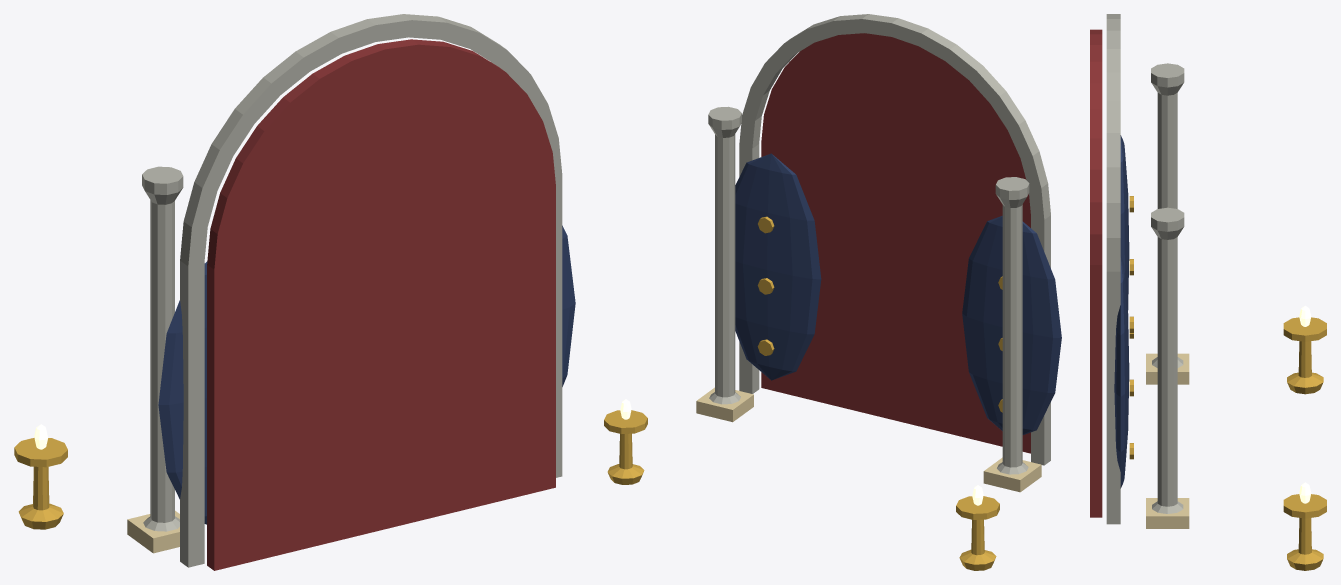
File: KOL_T1_DAKSHINESHWAR__09_Shrine_Frame.fbx
3 views of the same model, side by side, from view 1: azimuth 30°, elevation 25°; view 2: azimuth 150°, elevation 25°; view 3: azimuth 270°, elevation 25° (orthographic). The views are drawn at different scales.
Visible parts, largest first — view 1: KOL_T1_DAKSHINESHWAR__09_Shrine_Frame__KOL_T1_TempleRed, KOL_T1_DAKSHINESHWAR__09_Shrine_Frame__KOL_T1_TempleSilver, KOL_T1_DAKSHINESHWAR__09_Shrine_Frame__KOL_T1_KaliBlue, KOL_T1_DAKSHINESHWAR__09_Shrine_Frame__KOL_T1_KaliGold, KOL_T1_DAKSHINESHWAR__09_Shrine_Frame__KOL_T1_TempleCream; view 2: KOL_T1_DAKSHINESHWAR__09_Shrine_Frame__KOL_T1_TempleRed, KOL_T1_DAKSHINESHWAR__09_Shrine_Frame__KOL_T1_KaliBlue, KOL_T1_DAKSHINESHWAR__09_Shrine_Frame__KOL_T1_TempleSilver, KOL_T1_DAKSHINESHWAR__09_Shrine_Frame__KOL_T1_KaliGold, KOL_T1_DAKSHINESHWAR__09_Shrine_Frame__KOL_T1_TempleCream; view 3: KOL_T1_DAKSHINESHWAR__09_Shrine_Frame__KOL_T1_TempleSilver, KOL_T1_DAKSHINESHWAR__09_Shrine_Frame__KOL_T1_TempleRed, KOL_T1_DAKSHINESHWAR__09_Shrine_Frame__KOL_T1_KaliGold, KOL_T1_DAKSHINESHWAR__09_Shrine_Frame__KOL_T1_KaliBlue, KOL_T1_DAKSHINESHWAR__09_Shrine_Frame__KOL_T1_TempleCream, KOL_T1_DAKSHINESHWAR__09_Shrine_Frame__KOL_T1_TempleGlow.
Boxes of the visible parts, <box> form: KOL_T1_DAKSHINESHWAR__09_Shrine_Frame__KOL_T1_TempleRed: <box>207,39,555,570</box>; KOL_T1_DAKSHINESHWAR__09_Shrine_Frame__KOL_T1_TempleSilver: <box>142,14,562,567</box>; KOL_T1_DAKSHINESHWAR__09_Shrine_Frame__KOL_T1_KaliBlue: <box>158,225,575,524</box>; KOL_T1_DAKSHINESHWAR__09_Shrine_Frame__KOL_T1_KaliGold: <box>14,438,67,529</box>; KOL_T1_DAKSHINESHWAR__09_Shrine_Frame__KOL_T1_TempleCream: <box>127,510,179,553</box>; KOL_T1_DAKSHINESHWAR__09_Shrine_Frame__KOL_T1_TempleRed: <box>761,33,1030,453</box>; KOL_T1_DAKSHINESHWAR__09_Shrine_Frame__KOL_T1_KaliBlue: <box>735,153,1061,434</box>; KOL_T1_DAKSHINESHWAR__09_Shrine_Frame__KOL_T1_TempleSilver: <box>708,14,1050,474</box>; KOL_T1_DAKSHINESHWAR__09_Shrine_Frame__KOL_T1_KaliGold: <box>604,216,1002,570</box>; KOL_T1_DAKSHINESHWAR__09_Shrine_Frame__KOL_T1_TempleCream: <box>696,387,1041,492</box>; KOL_T1_DAKSHINESHWAR__09_Shrine_Frame__KOL_T1_TempleSilver: <box>1106,14,1184,524</box>; KOL_T1_DAKSHINESHWAR__09_Shrine_Frame__KOL_T1_TempleRed: <box>1090,29,1102,517</box>; KOL_T1_DAKSHINESHWAR__09_Shrine_Frame__KOL_T1_KaliGold: <box>1129,196,1326,570</box>; KOL_T1_DAKSHINESHWAR__09_Shrine_Frame__KOL_T1_KaliBlue: <box>1114,135,1129,488</box>; KOL_T1_DAKSHINESHWAR__09_Shrine_Frame__KOL_T1_TempleCream: <box>1146,353,1189,528</box>; KOL_T1_DAKSHINESHWAR__09_Shrine_Frame__KOL_T1_TempleGlow: <box>1299,305,1311,503</box>.
Bounding box in the file's own units: 26.6 × 28.2 × 13.59.
